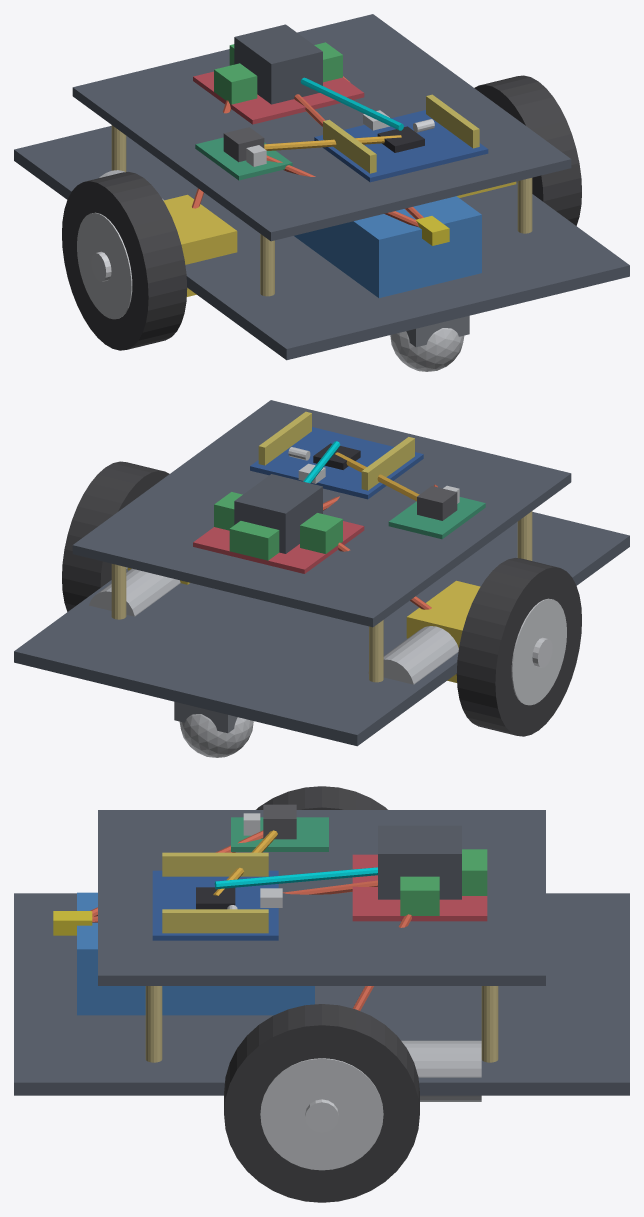
File: diff_car_teaching.glb
The picture shows the model from 3 angles, top to bottom: view 1: azimuth 30°, elevation 25°; view 2: azimuth 150°, elevation 25°; view 3: azimuth 270°, elevation 25°; orthographic projection. The views are drawn at different scales.
Visible parts, largest first — view 1: Node_Frame, Node_LeftWheel, Node_Battery, Node_MotorDriver, Node_STM32, Node_RightWheel, Node_LeftMotor, Node_Casters, Node_BuckConverter, Node_PowerWires, Node_SignalWires; view 2: Node_Frame, Node_LeftWheel, Node_MotorDriver, Node_STM32, Node_RightWheel, Node_LeftMotor, Node_BuckConverter, Node_Casters, Node_RightMotor, Node_PowerWires; view 3: Node_Frame, Node_RightWheel, Node_MotorDriver, Node_STM32, Node_Battery, Node_BuckConverter, Node_RightMotor, Node_LeftWheel, Node_PowerWires, Node_SignalWires.
Part boxes in pixels (box(x1,y1,x2,y2)): Node_Frame: box(14, 14, 629, 360); Node_LeftWheel: box(62, 172, 187, 350); Node_Battery: box(294, 196, 481, 297); Node_MotorDriver: box(193, 24, 364, 124); Node_STM32: box(314, 94, 488, 182); Node_RightWheel: box(474, 75, 581, 225); Node_LeftMotor: box(99, 170, 237, 296); Node_Casters: box(390, 315, 469, 371); Node_BuckConverter: box(195, 127, 292, 180); Node_PowerWires: box(192, 76, 423, 227); Node_SignalWires: box(300, 77, 403, 130); Node_Frame: box(14, 400, 629, 746); Node_LeftWheel: box(456, 558, 581, 736); Node_MotorDriver: box(193, 474, 364, 573); Node_STM32: box(250, 411, 423, 499); Node_RightWheel: box(62, 461, 169, 611); Node_LeftMotor: box(368, 580, 480, 684); Node_BuckConverter: box(388, 485, 485, 539); Node_Casters: box(174, 701, 253, 757); Node_RightMotor: box(89, 567, 189, 616); Node_PowerWires: box(323, 452, 437, 609); Node_Frame: box(14, 810, 629, 1095); Node_RightWheel: box(224, 1004, 419, 1202); Node_MotorDriver: box(352, 825, 487, 921); Node_STM32: box(152, 852, 282, 940); Node_Battery: box(53, 892, 314, 1015); Node_BuckConverter: box(231, 804, 328, 851); Node_RightMotor: box(401, 1040, 481, 1101); Node_LeftWheel: box(256, 786, 387, 809); Node_PowerWires: box(90, 830, 411, 1010); Node_SignalWires: box(214, 867, 377, 889).
Bounding box in the file's own units: 0.208 × 0.096 × 0.22.
